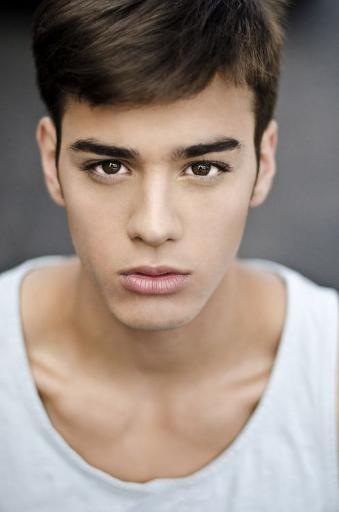left_eye: (179, 158, 235, 184)
left_lip_corner: (182, 269, 195, 284)
right_eye: (79, 158, 136, 184)
right_lip_corner: (115, 269, 127, 286)
